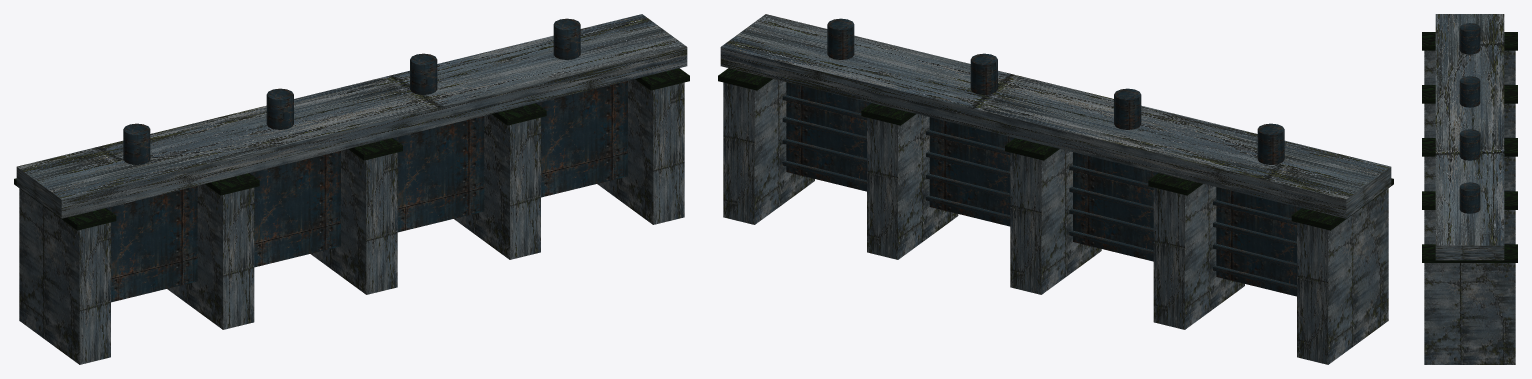
The model's file is spillway.glb.
3 renders of one model, left to right at view 1: azimuth 30°, elevation 25°; view 2: azimuth 150°, elevation 25°; view 3: azimuth 270°, elevation 25°, orthographic. The views are drawn at different scales.
Visible parts, largest first — view 1: spillway-concrete, spillway-steel, spillway-moss; view 2: spillway-concrete, spillway-steel, spillway-moss; view 3: spillway-concrete, spillway-moss, spillway-steel.
Boxes of the visible parts, x1,y1,x2,y2 form: spillway-concrete: (16, 14, 687, 364); spillway-steel: (106, 18, 627, 302); spillway-moss: (14, 68, 689, 230); spillway-concrete: (720, 14, 1391, 364); spillway-steel: (782, 18, 1301, 296); spillway-moss: (718, 68, 1393, 230); spillway-concrete: (1424, 14, 1515, 364); spillway-moss: (1422, 32, 1517, 262); spillway-steel: (1459, 23, 1480, 213).
Bounding box in the file's own units: 24 × 7.05 × 4.2.
Materials: 3 (3 with a texture image).
